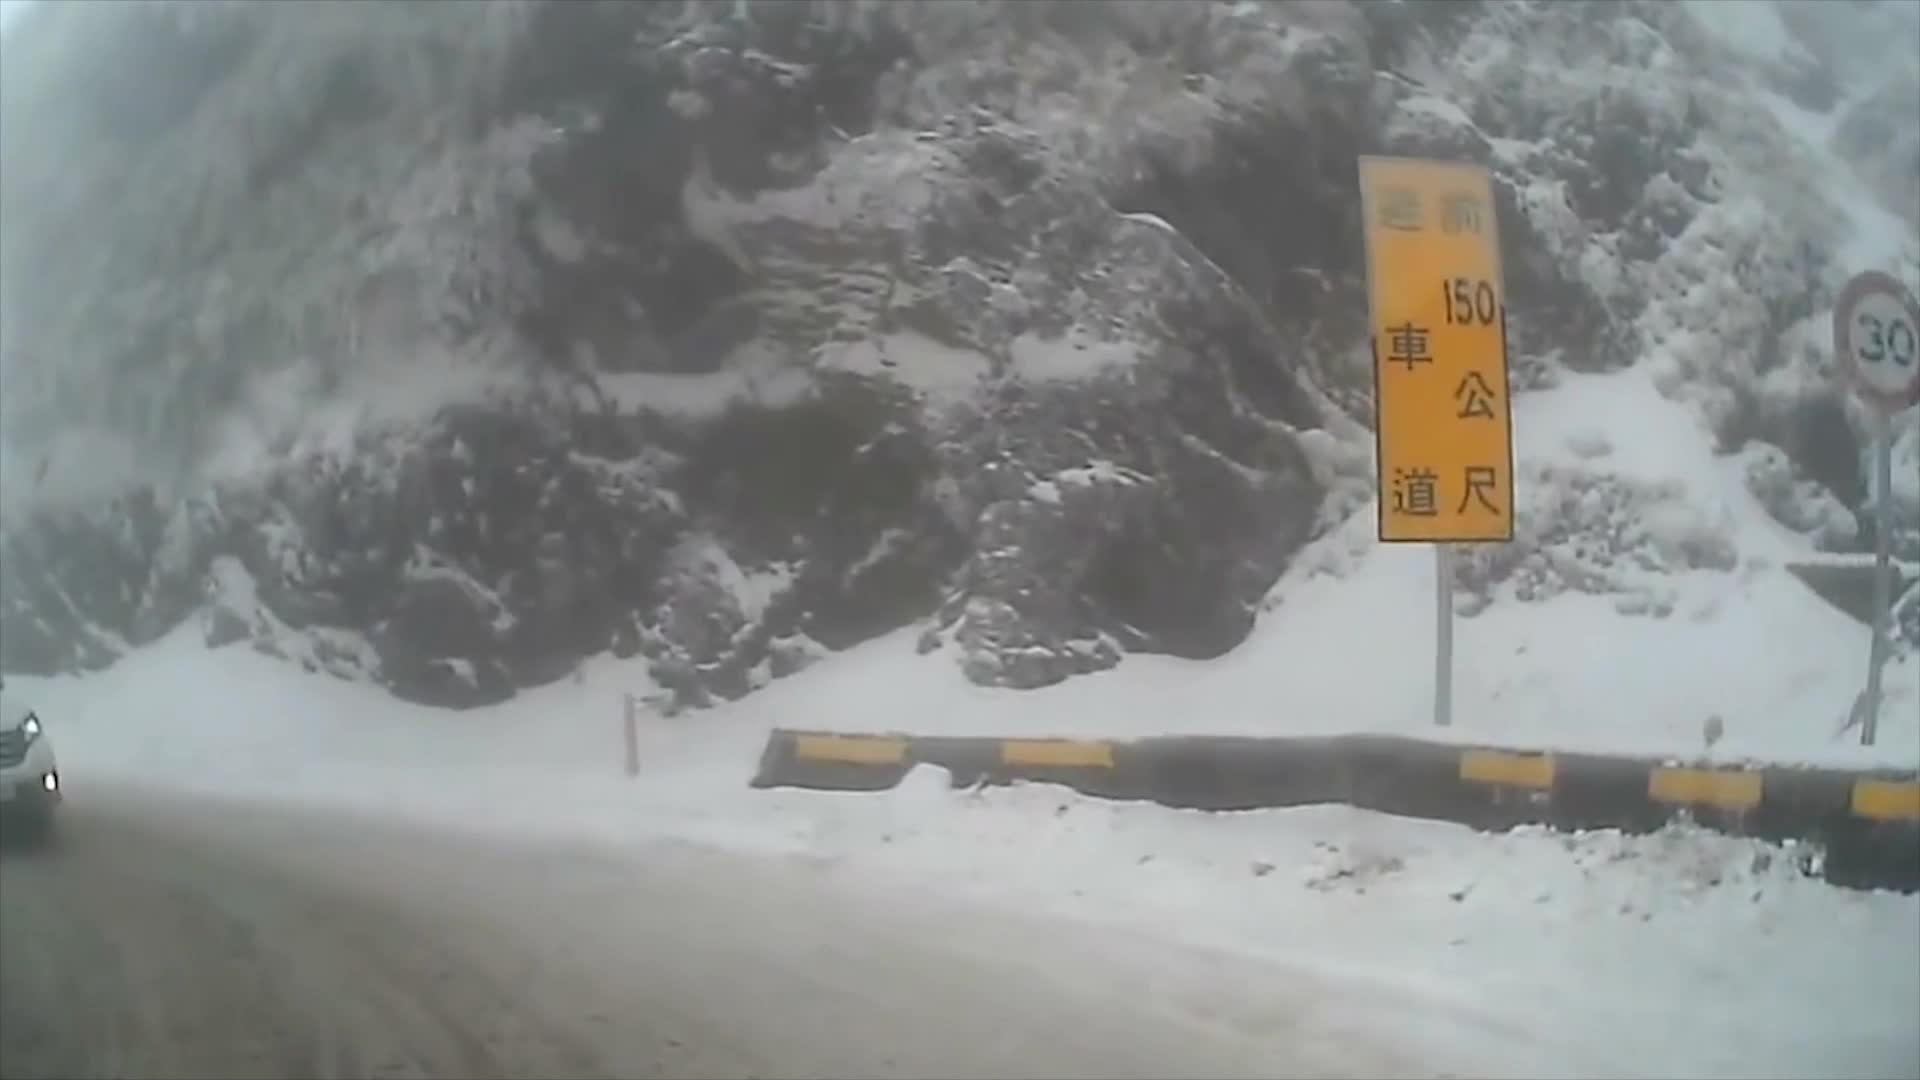vehicle: (1, 680, 59, 852)
